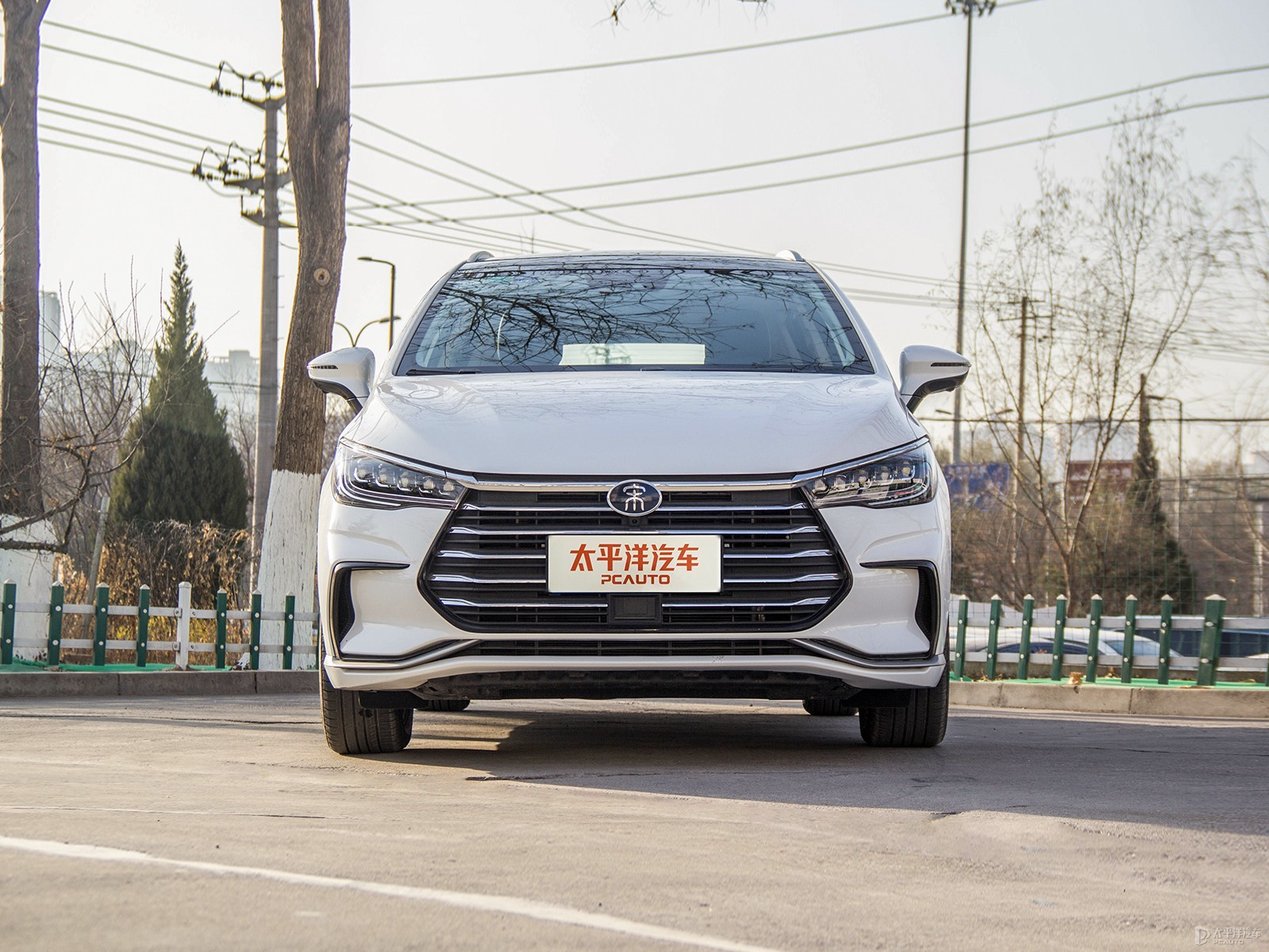BYD Song: (608, 480, 661, 515)
